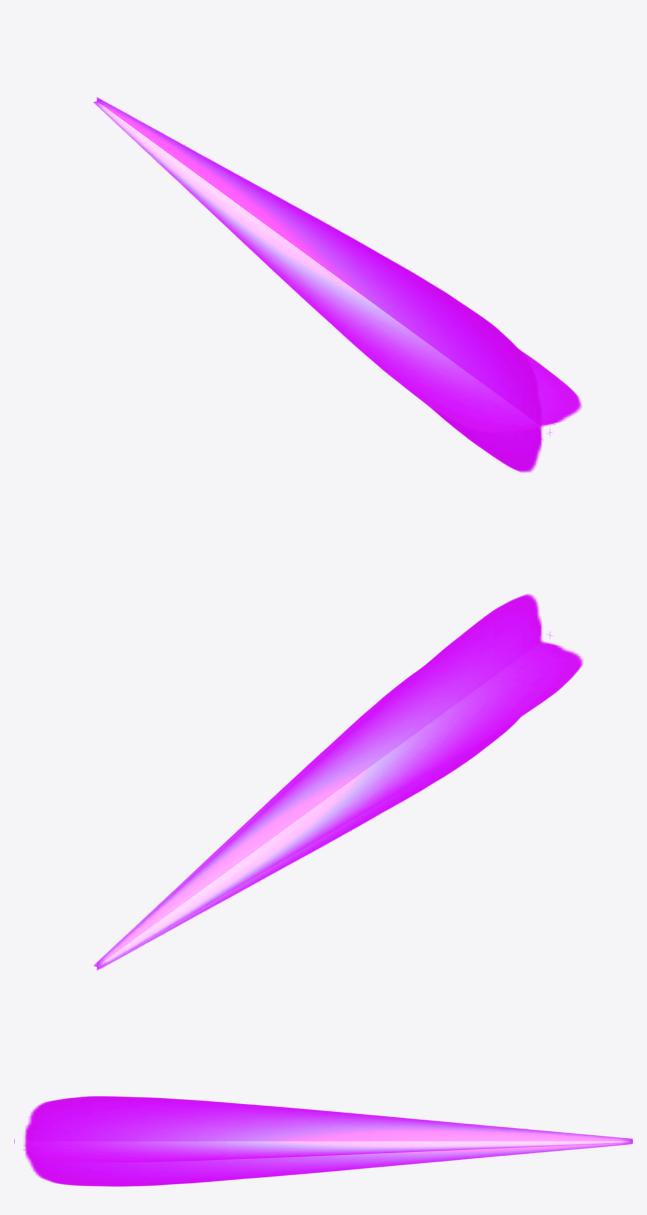
Rendered from uttvm-projectile.glb.
The picture shows the model from 3 angles, top to bottom: view 1: azimuth 30°, elevation 25°; view 2: azimuth 150°, elevation 25°; view 3: azimuth 270°, elevation 25°; orthographic projection. The views are drawn at different scales.
Visible parts, largest first — view 1: Plane_0; view 2: Plane_0; view 3: Plane_0.
Part boxes in pixels (x1,y1,x2,y2): Plane_0: (93,97,581,472); Plane_0: (93,594,582,970); Plane_0: (14,1096,632,1186).
Size of the model in its own units: 2 by 2 by 9.48.
Materials: 1 (1 with a texture image).
